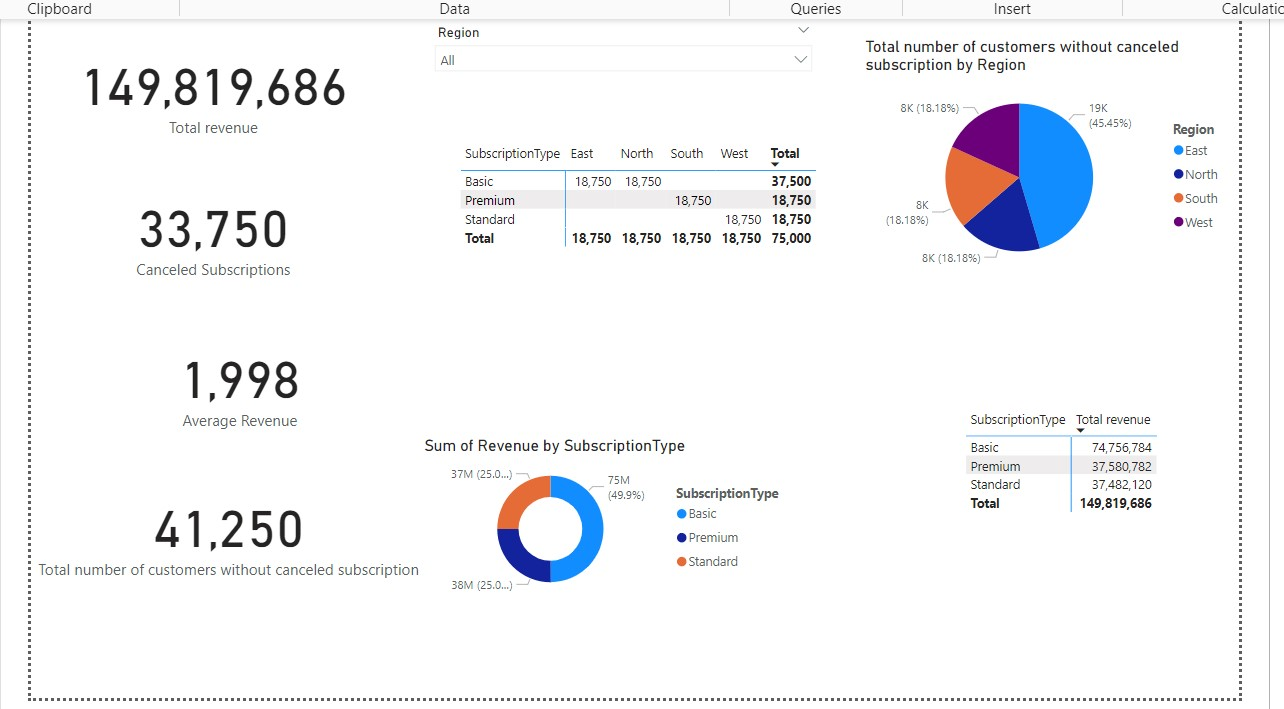

The dashboard page shown, as its layout file describes it:
{"tool":"powerbi","page":{"name":"Customer Data","canvas":[1280,720],"ordinal":1},"visuals":[{"type":"card","fields":{"Values":["CustomerData.Total revenue"]},"box":[10,0,367.1,151.4],"z":0},{"type":"card","fields":{"Values":["CustomerData.Average Revenue"]},"box":[11.4,331.4,420,111.4],"z":1000},{"type":"slicer","fields":{"Values":["CustomerData.Region"]},"box":[418.6,0,420,57.1],"z":2000},{"type":"pivotTable","fields":{"Rows":["CustomerData.SubscriptionType"],"Columns":["CustomerData.Region"],"Values":["CountNonNull(CustomerData.SubscriptionType)"]},"box":[450,127.1,420,150],"z":3000},{"type":"pivotTable","fields":{"Rows":["CustomerData.SubscriptionType"],"Values":["CustomerData.Total revenue"]},"box":[986.2,408.8,240.2,119.3],"z":4000},{"type":"donutChart","fields":{"Y":["Sum(CustomerData.Revenue)"],"Category":["CustomerData.SubscriptionType"]},"box":[411.4,442.9,400,177.1],"z":5000},{"type":"card","fields":{"Values":["CustomerData.Total number of customers without canceled subscription"]},"box":[0,470,418.6,150],"z":6000},{"type":"pieChart","fields":{"Category":["CustomerData.Region"],"Y":["CustomerData.Total number of customers without canceled subscription"]},"box":[880,18.6,400,258.6],"z":7000},{"type":"card","fields":{"Values":["CustomerData.Canceled Subscriptions"]},"box":[10,151,367,150],"z":8000}]}

Visuals, with their boxes on the page's 1280x720 design canvas (x1, y1, x2, y2). These are canvas units, not pixel positions in the 1284x709 screenshot, which may show the page scaled, cropped or inside an application window:
card - CustomerData.Total revenue: [x1=10, y1=0, x2=377, y2=151]
card - CustomerData.Average Revenue: [x1=11, y1=331, x2=431, y2=443]
slicer - CustomerData.Region: [x1=419, y1=0, x2=839, y2=57]
pivotTable - CustomerData.SubscriptionType x CustomerData.Region: [x1=450, y1=127, x2=870, y2=277]
pivotTable - CustomerData.SubscriptionType x CustomerData.Total revenue: [x1=986, y1=409, x2=1226, y2=528]
donutChart - Sum(CustomerData.Revenue) x CustomerData.SubscriptionType: [x1=411, y1=443, x2=811, y2=620]
card - CustomerData.Total number of customers without canceled subscription: [x1=0, y1=470, x2=419, y2=620]
pieChart - CustomerData.Region x CustomerData.Total number of customers without canceled subscription: [x1=880, y1=19, x2=1280, y2=277]
card - CustomerData.Canceled Subscriptions: [x1=10, y1=151, x2=377, y2=301]
